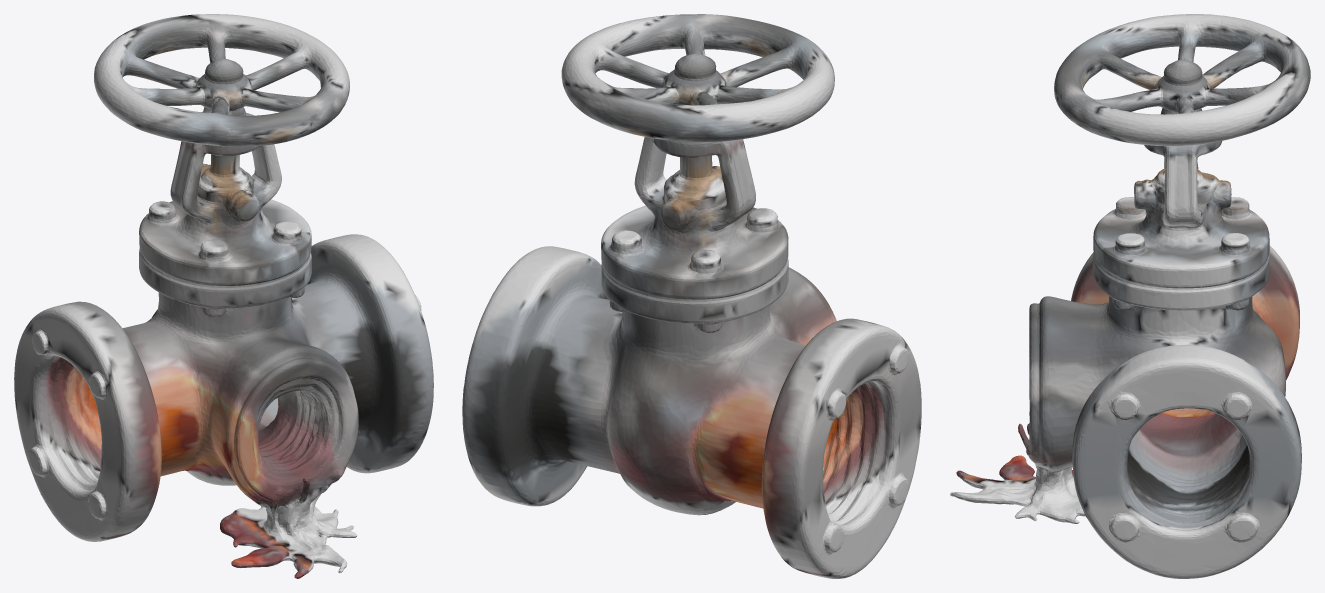
The model's file is machine.glb.
3 renders of one model, left to right at view 1: azimuth 30°, elevation 25°; view 2: azimuth 150°, elevation 25°; view 3: azimuth 270°, elevation 25°, orthographic. The views are drawn at different scales.
Parts seen in each view (by area): view 1: tmpe9bm1gwm.ply; view 2: tmpe9bm1gwm.ply; view 3: tmpe9bm1gwm.ply.
Part boxes in pixels (x1,y1,x2,y2): tmpe9bm1gwm.ply: (14,14,433,578); tmpe9bm1gwm.ply: (462,14,921,578); tmpe9bm1gwm.ply: (950,14,1310,578).
Size of the model in its own units: 1.54 by 1.99 by 1.47.
